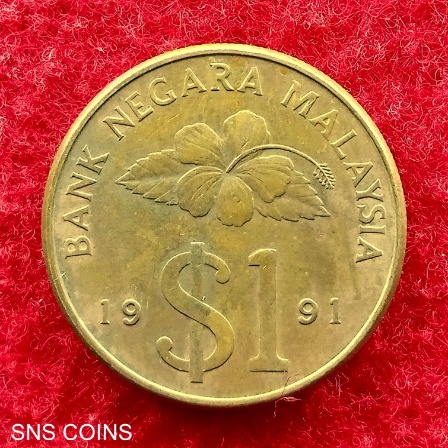1r: (40, 43, 407, 409)
